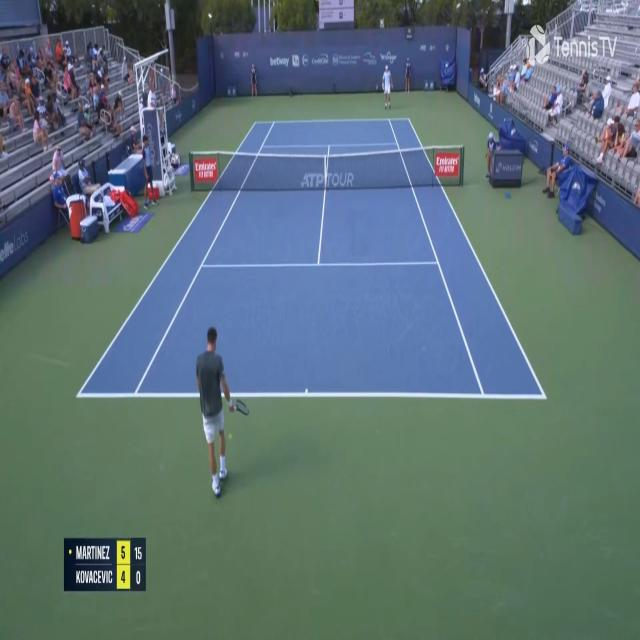tennis-player: (195, 323, 250, 502), (376, 63, 392, 108)
